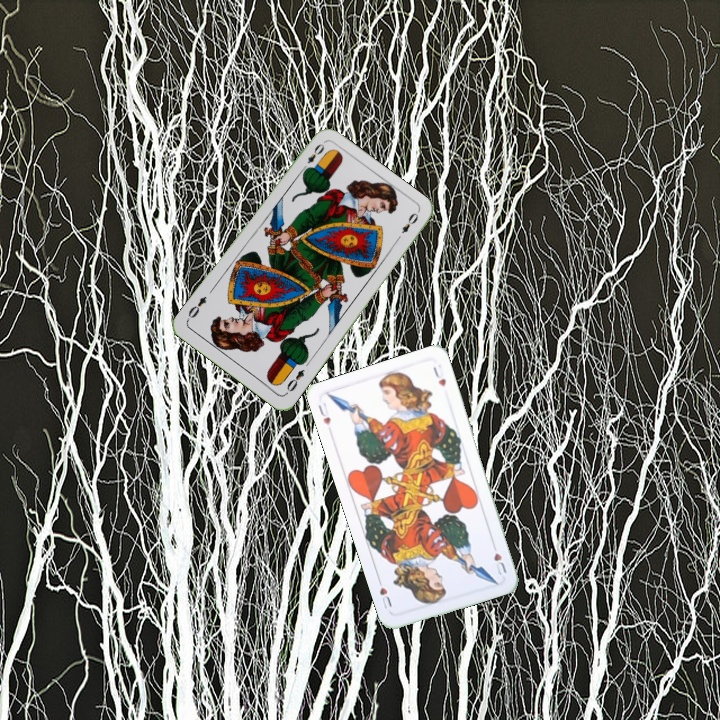EO: (297, 139, 327, 174), (282, 365, 307, 394)
HU: (488, 539, 509, 578), (314, 399, 333, 428)
